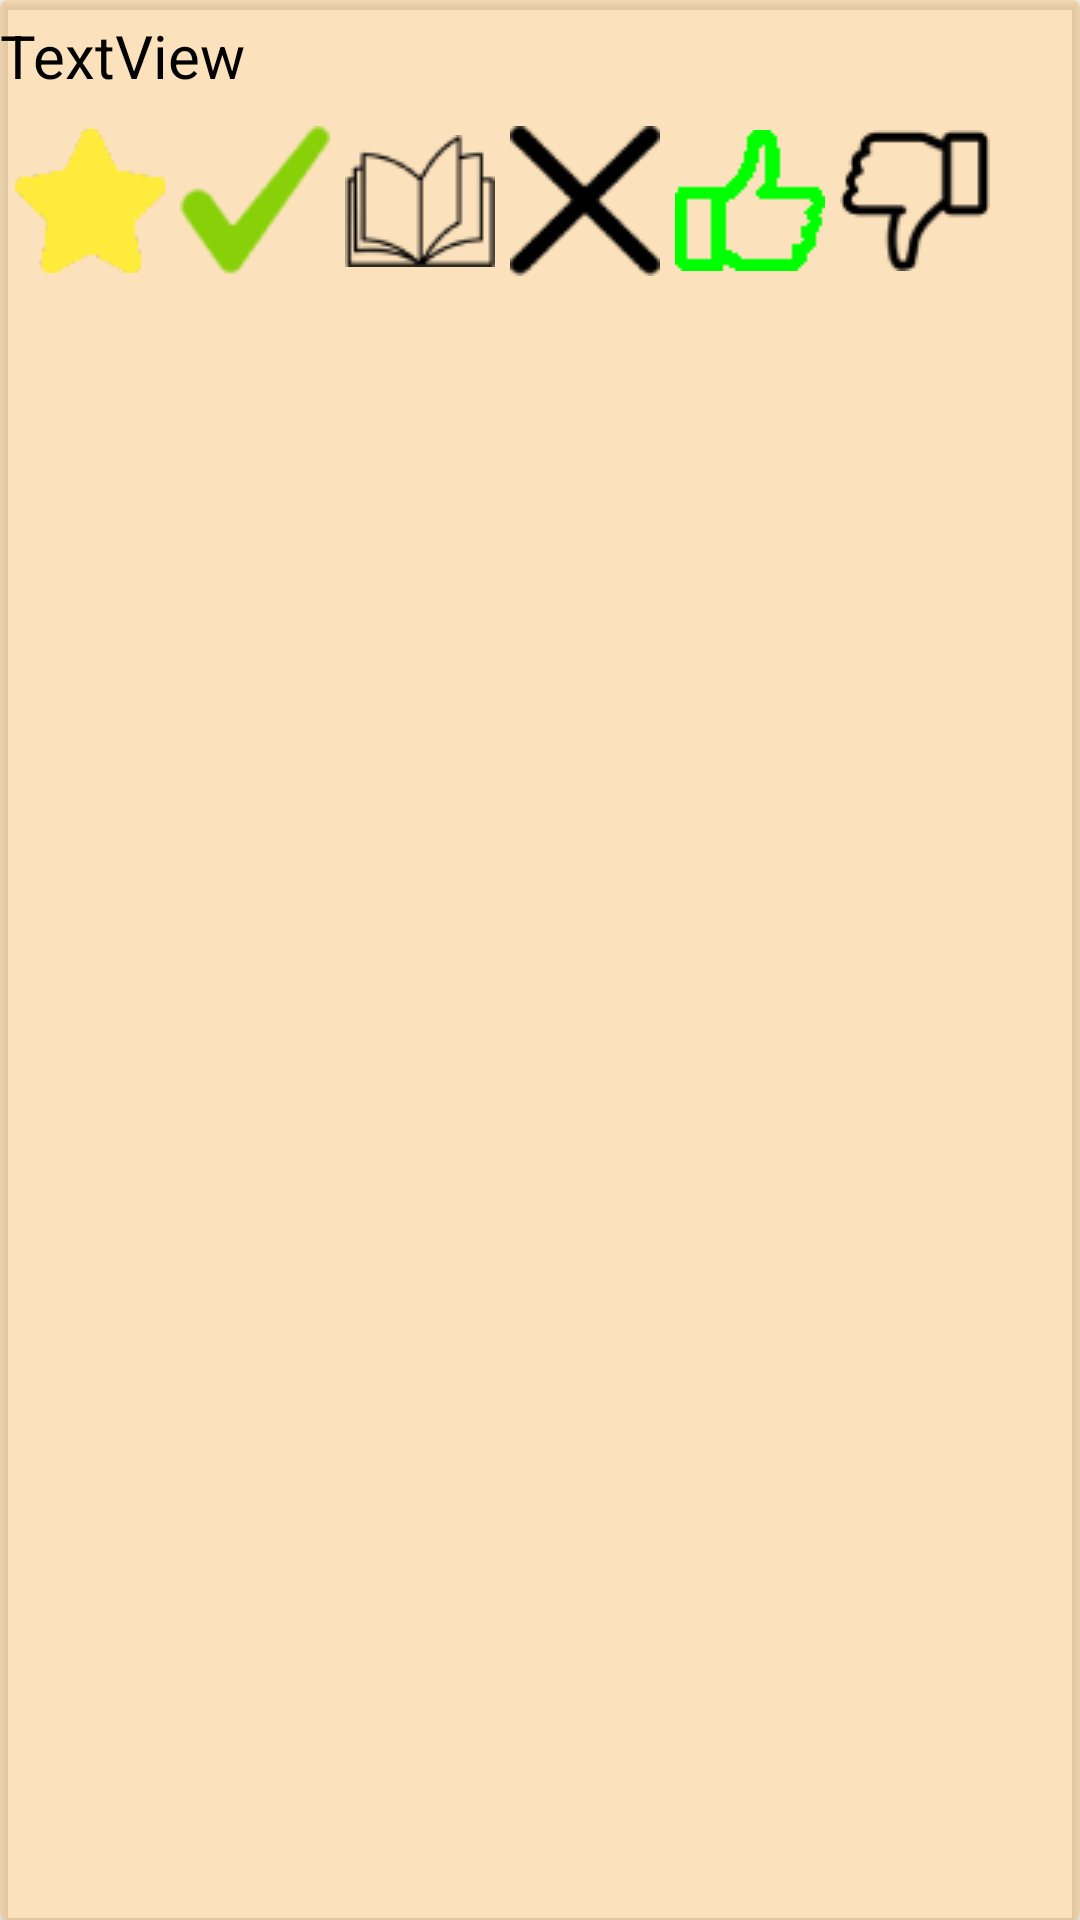

Point at icon controls on the screen. Image size 1080*1920, points as point (x, y).
check: point (255, 200)
cruz: point (585, 201)
estrella: point (90, 201)
libro: point (420, 201)
like: point (750, 200)
notlike: point (915, 200)
